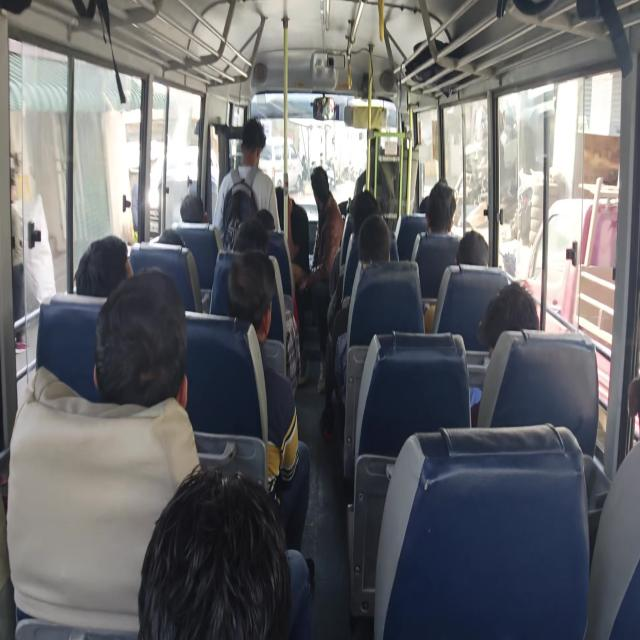person: (177, 430, 287, 640), (108, 278, 230, 434), (483, 276, 522, 363), (222, 246, 260, 333), (83, 240, 135, 302), (427, 186, 467, 243), (460, 233, 502, 287), (366, 212, 395, 286), (625, 366, 640, 488), (239, 112, 276, 161), (236, 218, 268, 269), (307, 166, 339, 215), (276, 172, 301, 230), (418, 195, 454, 233), (178, 203, 202, 237), (354, 190, 376, 222), (256, 202, 276, 228)
